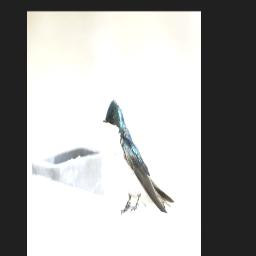Swallow: (102, 97, 175, 219)
